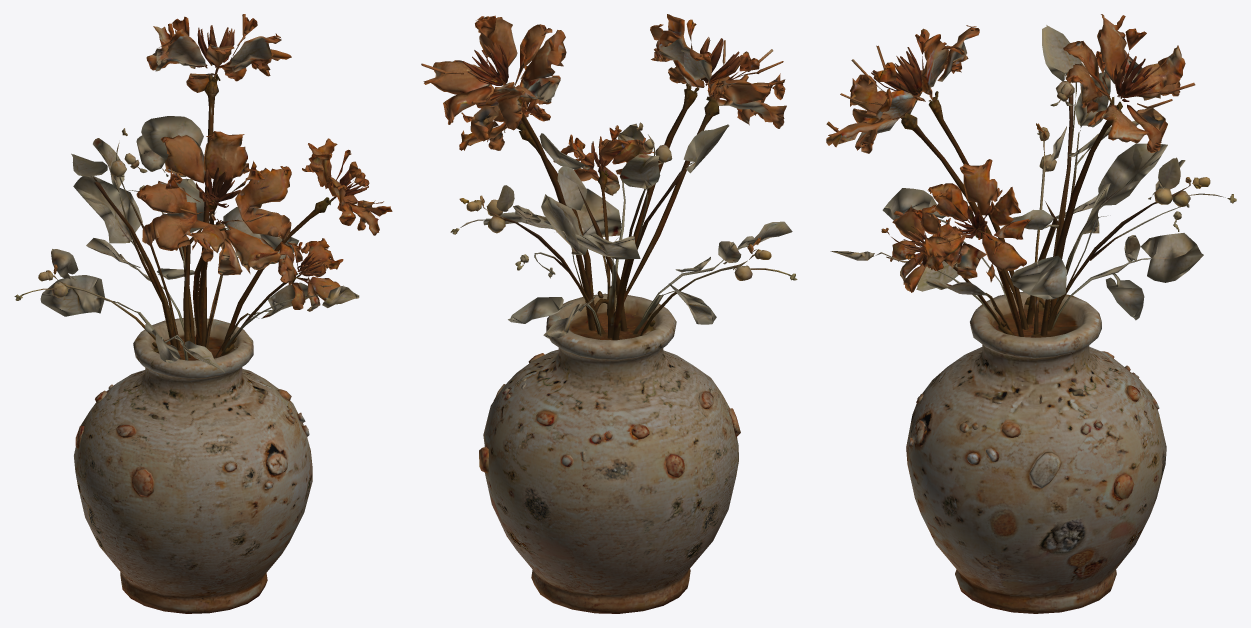
3 views of the same model, side by side, from view 1: azimuth 30°, elevation 25°; view 2: azimuth 150°, elevation 25°; view 3: azimuth 270°, elevation 25° (orthographic). The views are drawn at different scales.
Parts seen in each view (by area): view 1: tripo_node_e6f6a049-c367-47e5-a6da-b45be4a38459; view 2: tripo_node_e6f6a049-c367-47e5-a6da-b45be4a38459; view 3: tripo_node_e6f6a049-c367-47e5-a6da-b45be4a38459.
Part boxes in pixels (x1=…): tripo_node_e6f6a049-c367-47e5-a6da-b45be4a38459: x1=14, y1=14, x2=392, y2=613; tripo_node_e6f6a049-c367-47e5-a6da-b45be4a38459: x1=421, y1=14, x2=797, y2=613; tripo_node_e6f6a049-c367-47e5-a6da-b45be4a38459: x1=826, y1=14, x2=1236, y2=613.
Bounding box in the file's own units: 0.6621 × 0.998 × 0.6426.
Materials: 1 (1 with a texture image).
